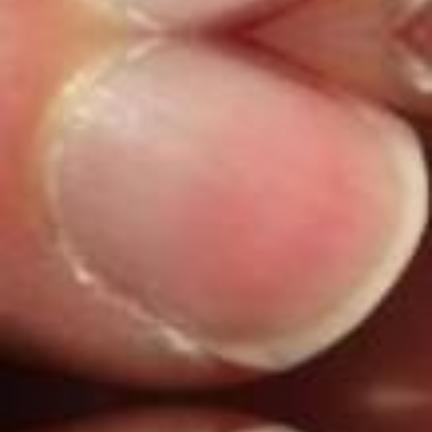Nail: (56, 36, 428, 370), (100, 0, 292, 30), (247, 425, 294, 432)
